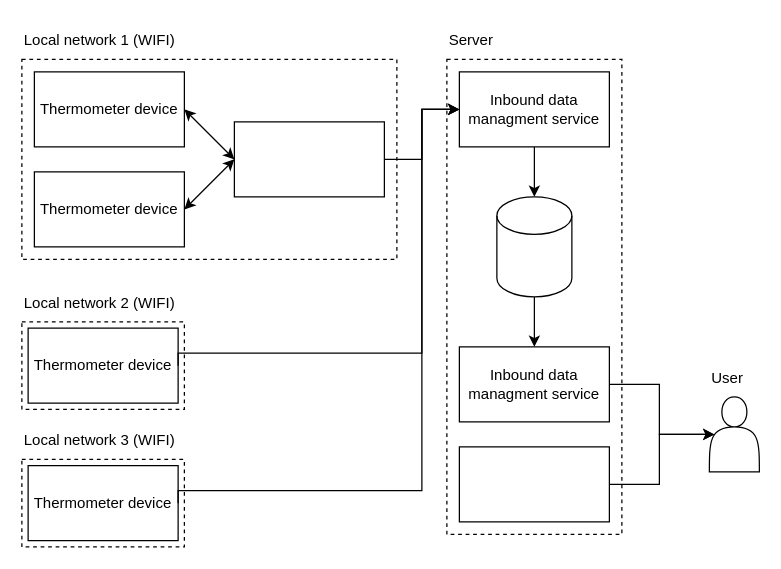
The diagram is 781 pixels wide and 569 high, and some of its shapes have lost their labels. The box of each missing label's shape, as (x1, y1, x2, y2) in pixels:
DB: (496, 196, 572, 297)
Hub: (233, 121, 384, 197)
Web server with an endpoint: (458, 446, 609, 522)
